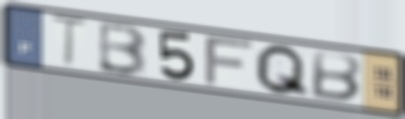5: (156, 30, 196, 82)
B: (95, 20, 149, 78), (308, 48, 364, 103)
F: (202, 35, 257, 88)
Q: (252, 43, 313, 100)
T: (47, 13, 92, 71)
